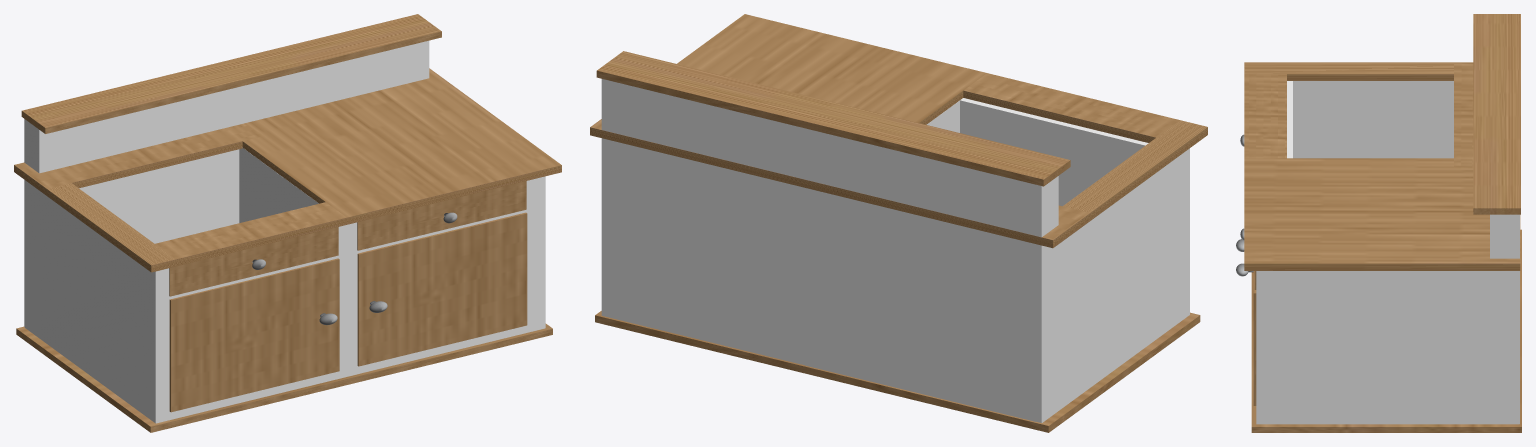
Rendered from Kitchen Sink (Base & Doors).fbx.
3 views of the same model, side by side, from view 1: azimuth 30°, elevation 25°; view 2: azimuth 150°, elevation 25°; view 3: azimuth 270°, elevation 25° (orthographic). The views are drawn at different scales.
Parts seen in each view (by area): view 1: Base.004, Counter.002, Door 1.003, Door 1, Base.002, Base.003, Base.001, Door 2.003, Door 2; view 2: Base.002, Base.004, Counter.002, Base.003, Base.001; view 3: Base.004, Counter.002, Base.003, Base.002, Base.001, Door 1.003.
Part boxes in pixels (<box>): Base.004: <box>24,148,545,423</box>; Counter.002: <box>14,68,561,272</box>; Door 1.003: <box>357,212,527,366</box>; Door 1: <box>169,258,339,412</box>; Base.002: <box>24,40,429,337</box>; Base.003: <box>21,14,441,133</box>; Base.001: <box>16,323,552,432</box>; Door 2.003: <box>357,181,526,250</box>; Door 2: <box>169,227,338,296</box>; Base.002: <box>601,79,1058,422</box>; Base.004: <box>602,98,1189,422</box>; Counter.002: <box>590,14,1207,248</box>; Base.003: <box>596,51,1070,186</box>; Base.001: <box>595,311,1200,432</box>; Base.004: <box>1256,81,1519,424</box>; Counter.002: <box>1244,62,1520,270</box>; Base.003: <box>1473,14,1520,214</box>; Base.002: <box>1490,214,1519,423</box>; Base.001: <box>1251,229,1521,432</box>; Door 1.003: <box>1253,271,1256,405</box>.
Size of the model in its own units: 1.58 by 0.8218 by 0.9499.
22 materials, 22 textured.
